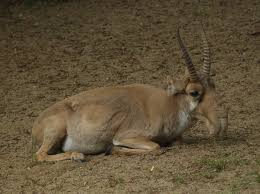saiga: (29, 23, 228, 157)
